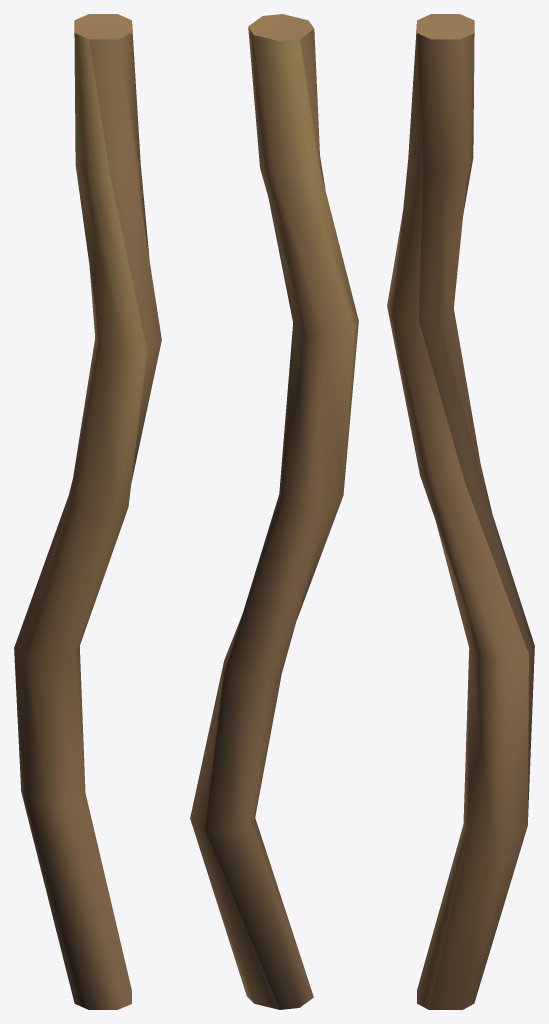
The model's file is vine5.fbx.
3 views of the same model, side by side, from view 1: azimuth 90°, elevation 25°; view 2: azimuth 150°, elevation 25°; view 3: azimuth 270°, elevation 25° (orthographic).
Visible parts, largest first — view 1: vine5; view 2: vine5; view 3: vine5.
Part boxes in pixels (x1,y1,x2,y2): vine5: [14, 14, 161, 1009]; vine5: [190, 14, 358, 1009]; vine5: [387, 14, 534, 1009].
Size of the model in its own units: 31.81 by 240 by 33.12.
Materials: 1 (1 with a texture image).
